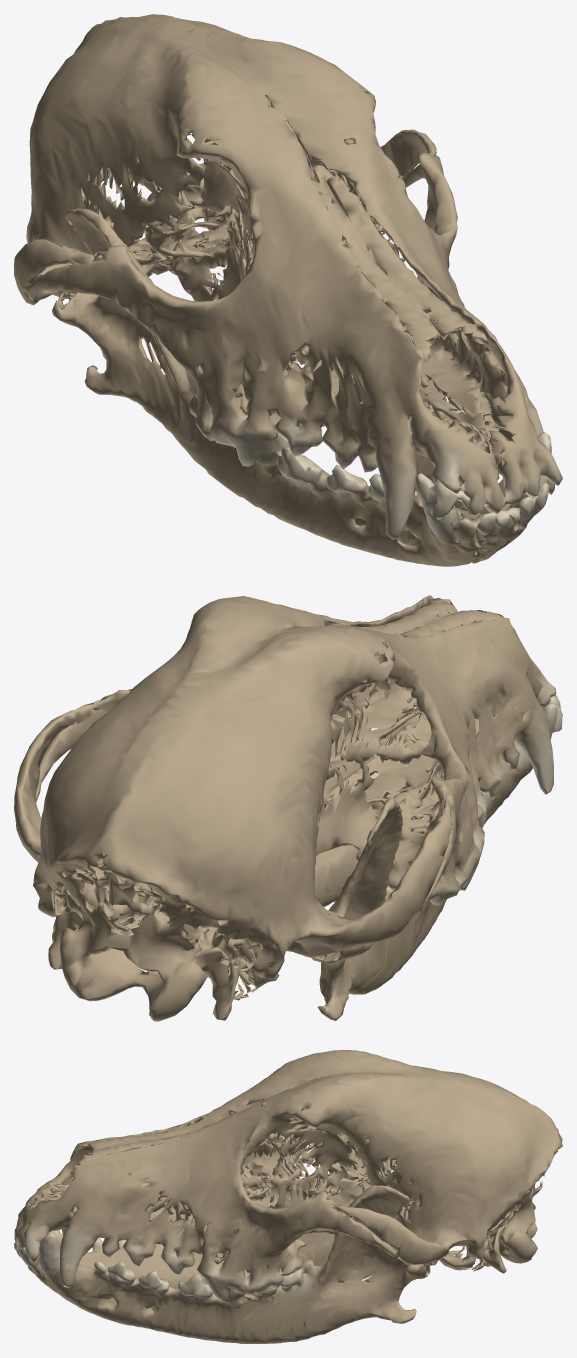
File: canine-skull.glb
The picture shows the model from 3 angles, top to bottom: view 1: azimuth 30°, elevation 25°; view 2: azimuth 150°, elevation 25°; view 3: azimuth 270°, elevation 25°; orthographic projection. The views are drawn at different scales.
Visible parts, largest first — view 1: Cranium, Mandible; view 2: Cranium, Mandible; view 3: Cranium, Mandible.
Part boxes in pixels (x1,y1,x2,y2): Cranium: [14, 14, 562, 539]; Mandible: [52, 173, 551, 566]; Cranium: [14, 595, 556, 1021]; Mandible: [138, 695, 562, 1020]; Cranium: [14, 1050, 562, 1299]; Mandible: [14, 1148, 432, 1343].
Size of the model in its own units: 0.8787 by 0.8112 by 1.61.
